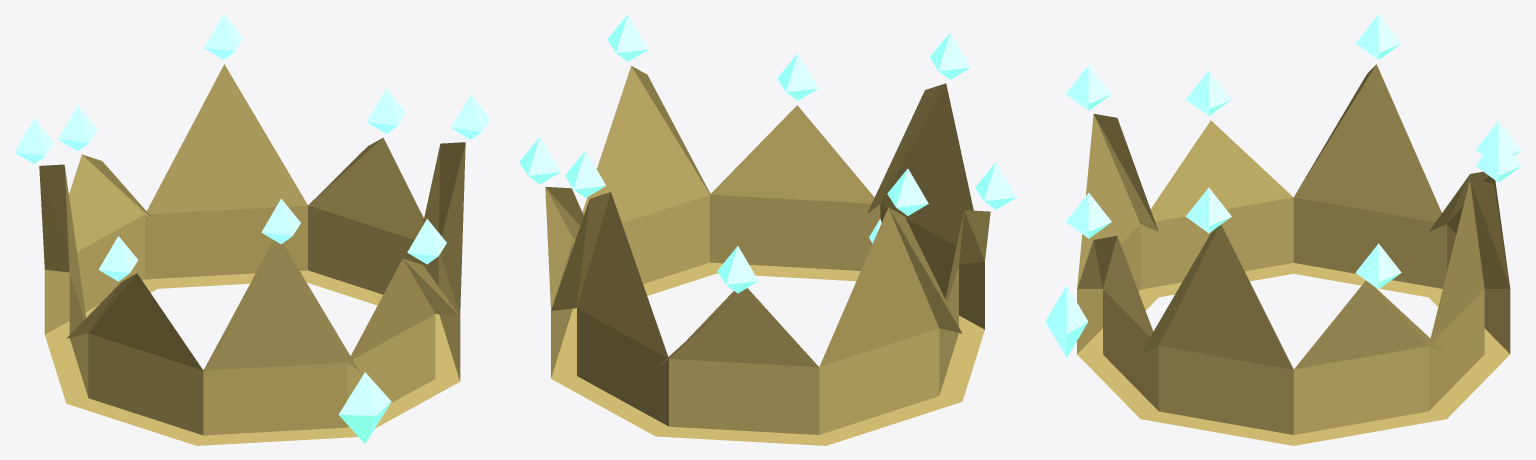
Rendered from crown-BKOFIPfV.glb.
3 views of the same model, side by side, from view 1: azimuth 30°, elevation 25°; view 2: azimuth 150°, elevation 25°; view 3: azimuth 270°, elevation 25° (orthographic). The views are drawn at different scales.
Parts seen in each view (by area): view 1: Crown; view 2: Crown; view 3: Crown.
Boxes of the visible parts, x1,y1,x2,y2 form: Crown: (14, 14, 490, 445); Crown: (519, 14, 1016, 445); Crown: (1045, 14, 1521, 445).
Size of the model in its own units: 0.8845 by 0.551 by 0.9243.
